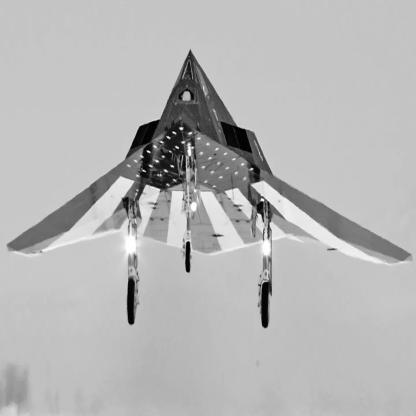F117: (7, 49, 415, 329)
